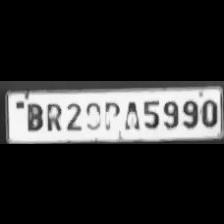0: (198, 95, 218, 127)
2: (62, 98, 82, 132)
5: (139, 96, 159, 130)
9: (82, 97, 102, 130), (160, 96, 180, 128), (180, 96, 198, 128)
A: (120, 97, 140, 131)
B: (22, 100, 42, 132)
P: (103, 97, 120, 131)
R: (43, 98, 62, 132)
